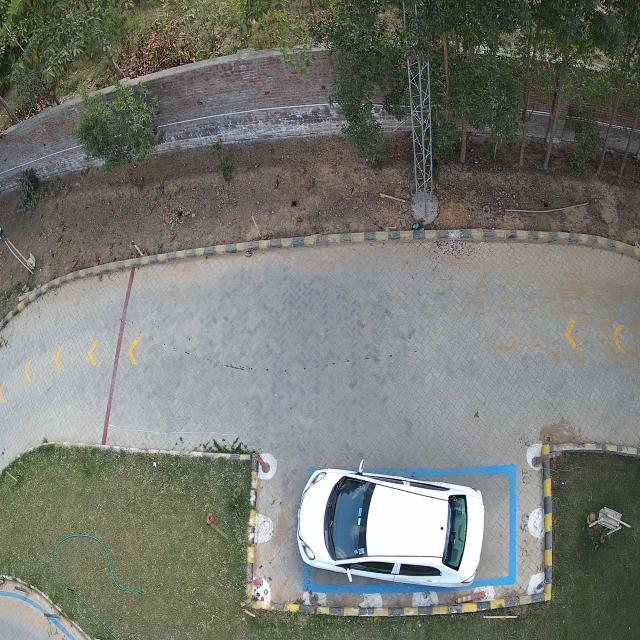car: (298, 460, 484, 588)
